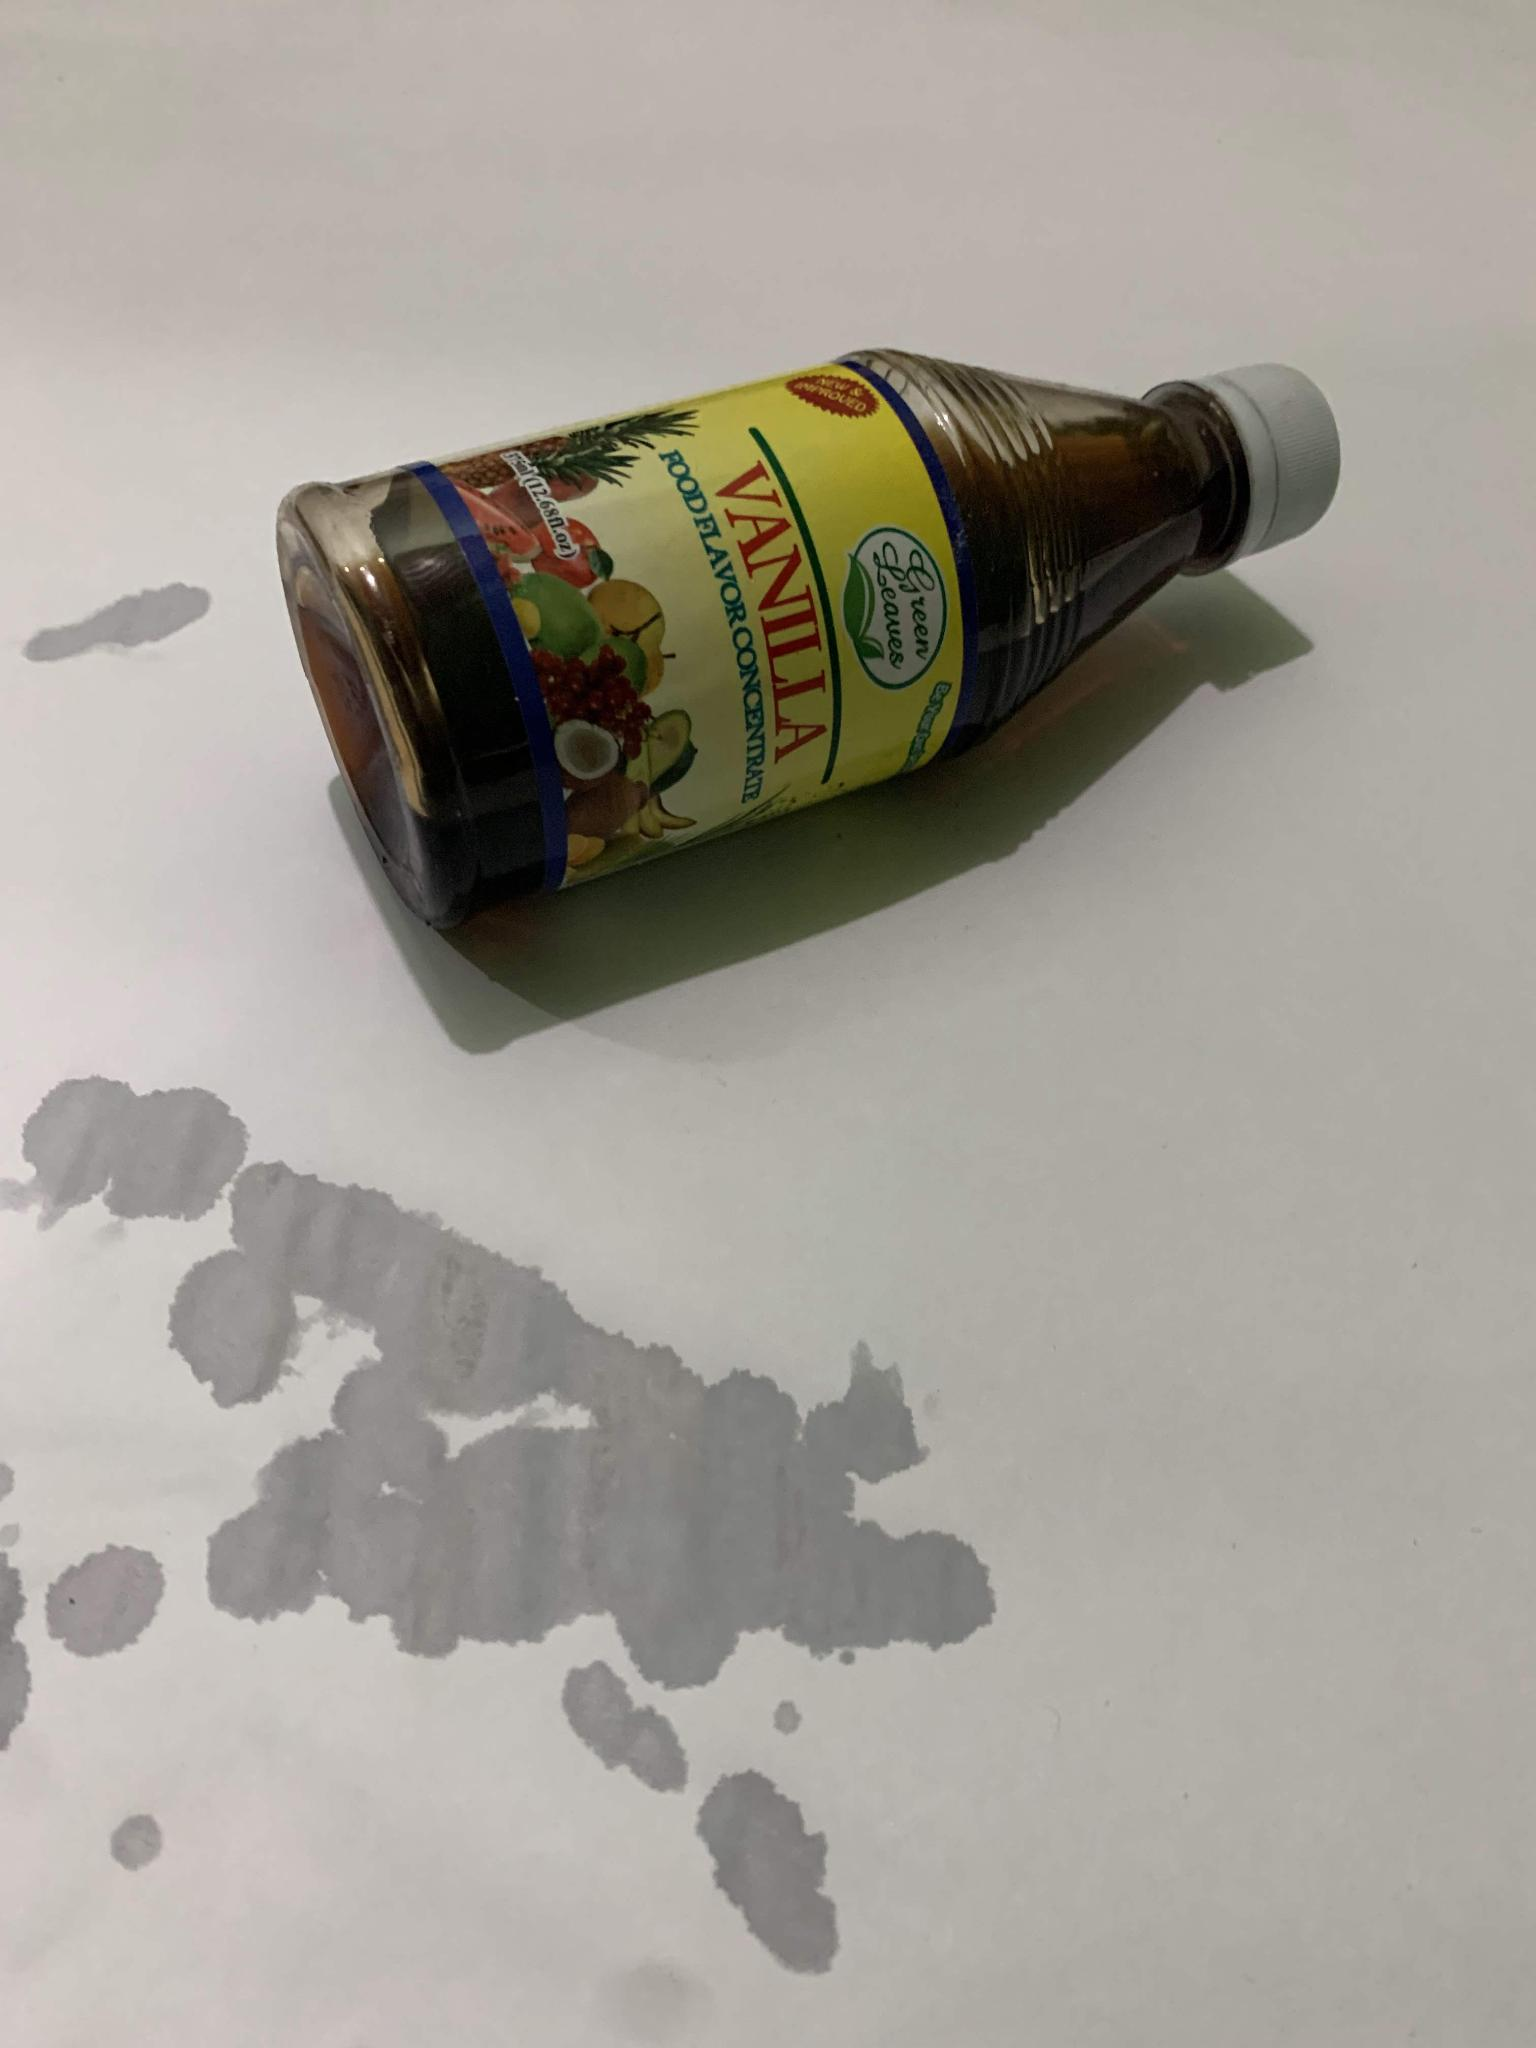bottle: (248, 319, 1388, 990)
